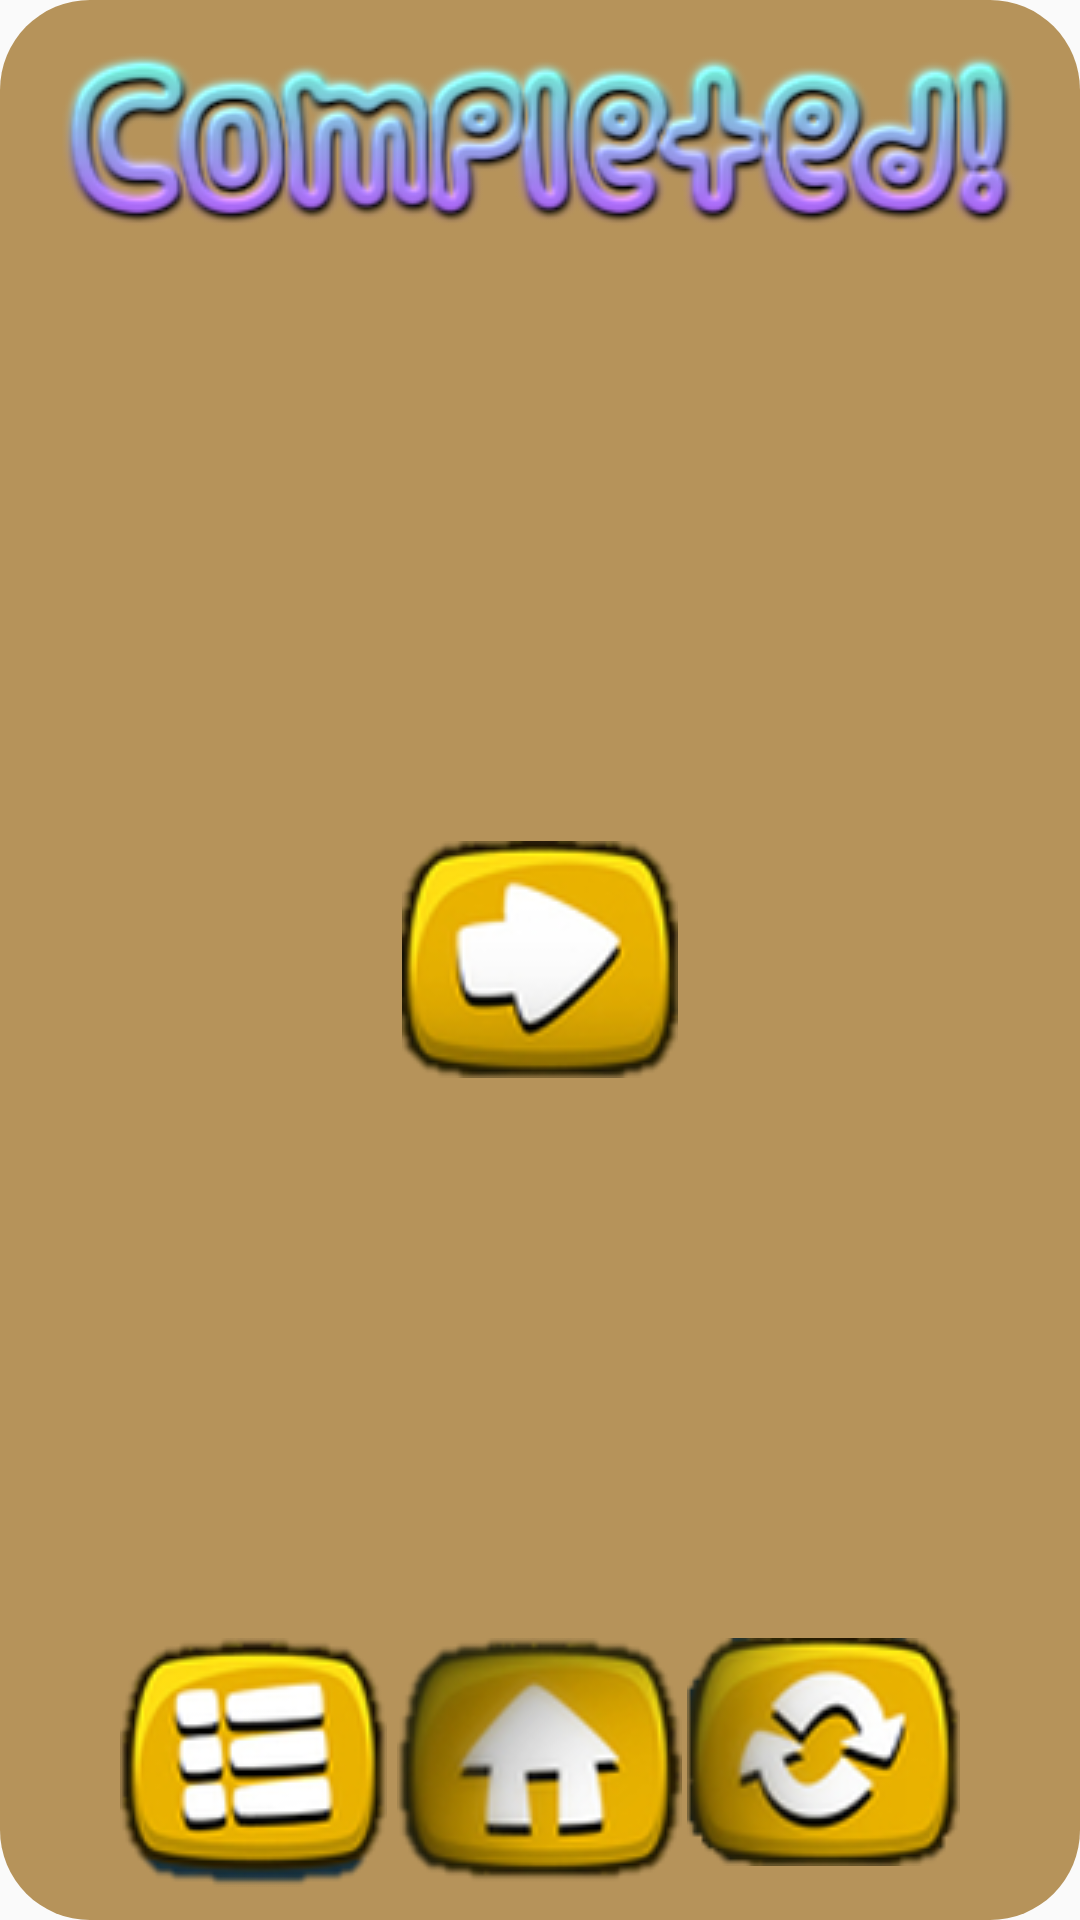

Screen size 1080px×1920px. Icon name, then its center in pixels as [x,y]:
homebtn: [540,1759]
levelbtn: [252,1762]
nextbtn: [540,959]
refreshbtn: [823,1752]
